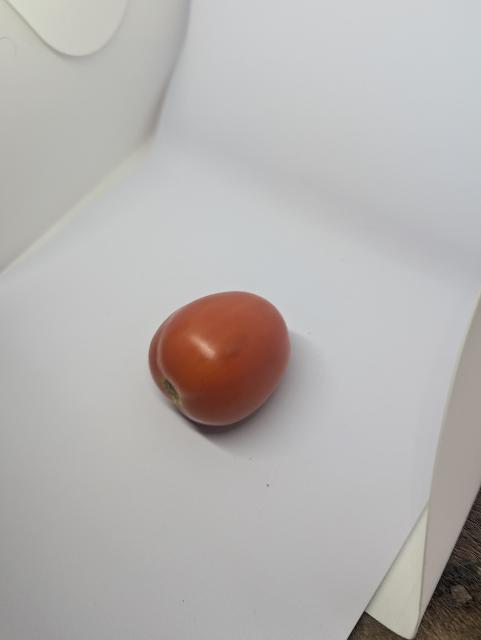red: (136, 277, 298, 434)
